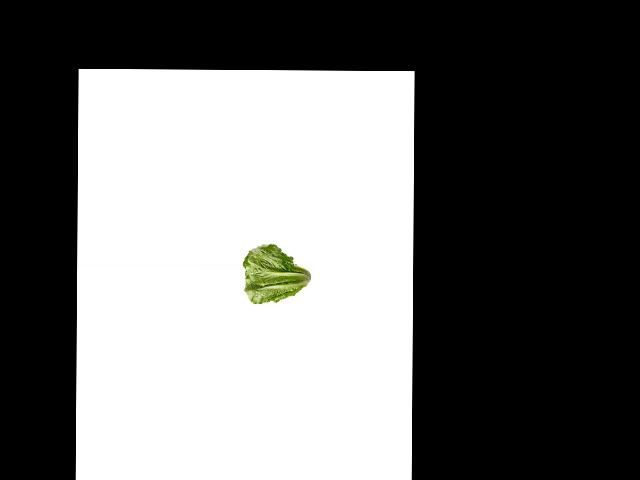lettuce: (241, 241, 314, 302)
